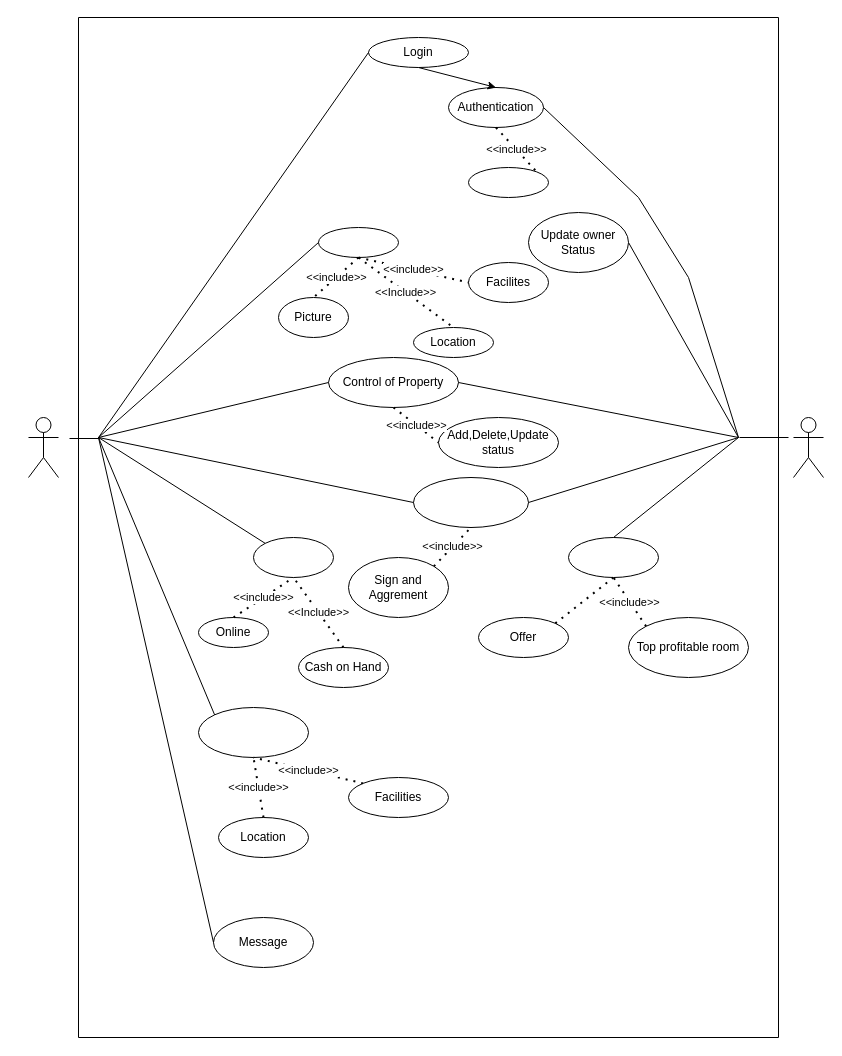
The diagram is 842 pixels wide and 1056 high, and some of its shapes have lost their labels. The centre of each missing label's shape, as x and y in pixels:
"Admin" belongs at point (808, 447).
"Owner & Customer" belongs at point (43, 447).
"Payment" belongs at point (293, 557).
"Profile" belongs at point (358, 242).
"Register" belongs at point (508, 182).
"Search Property" belongs at point (253, 732).
"Showcase" belongs at point (613, 557).
"View Contract" belongs at point (470, 502).
